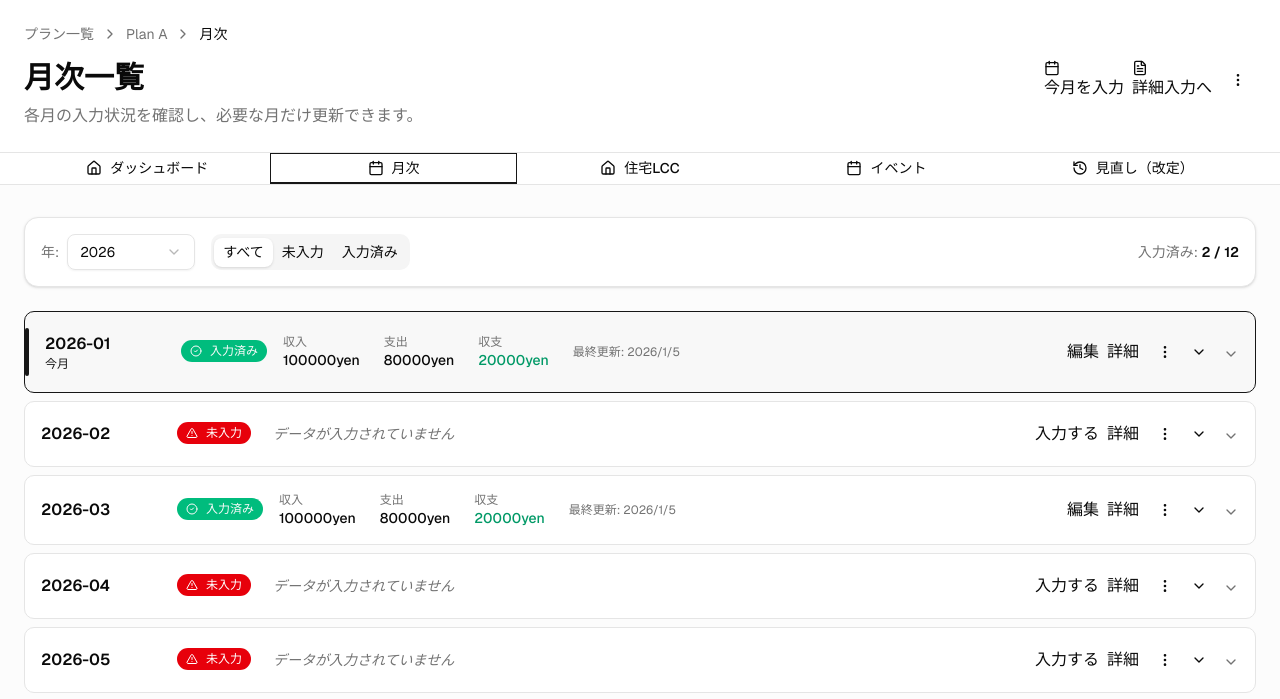
Test: MonthlyListPage › filters missing months to hide entered actions
This screenshot has width=1280, height=699.
expect the link "Plan A" is shown: met, box [126,24,168,44]
Click the tab "未入力": point(303, 252) [273,238,333,266]
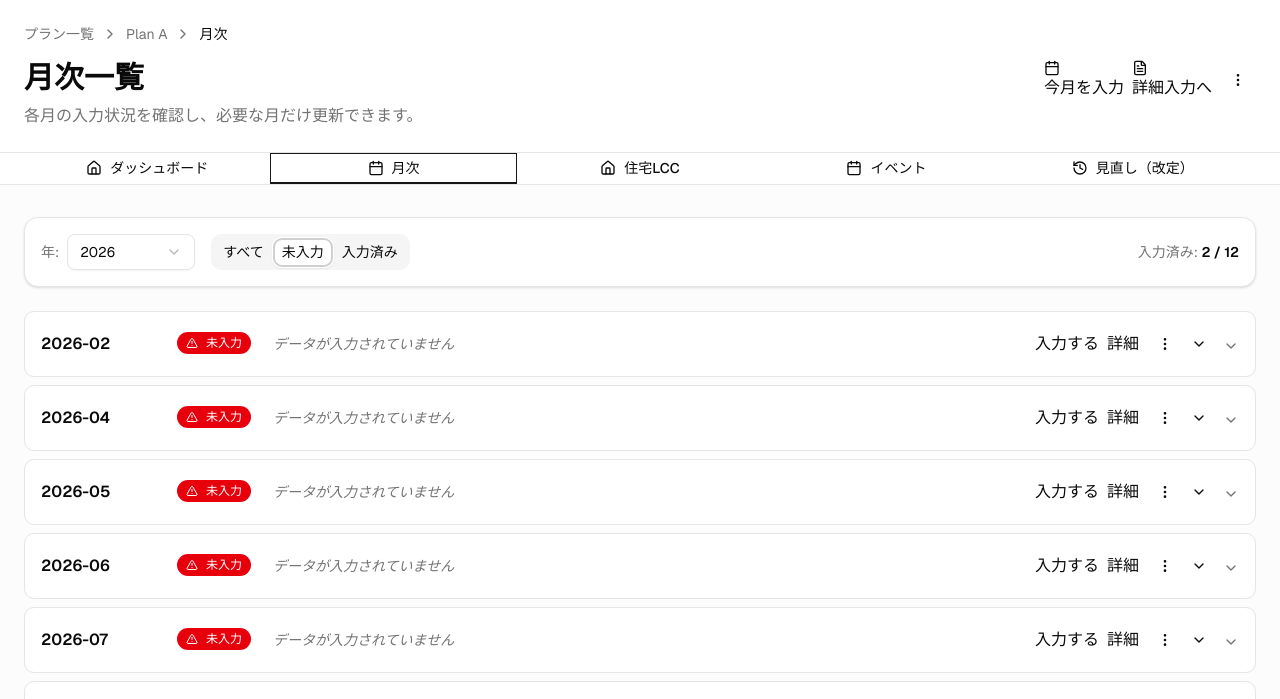
expect no buttons with test id "month-actions-2026-01" are shown: met
